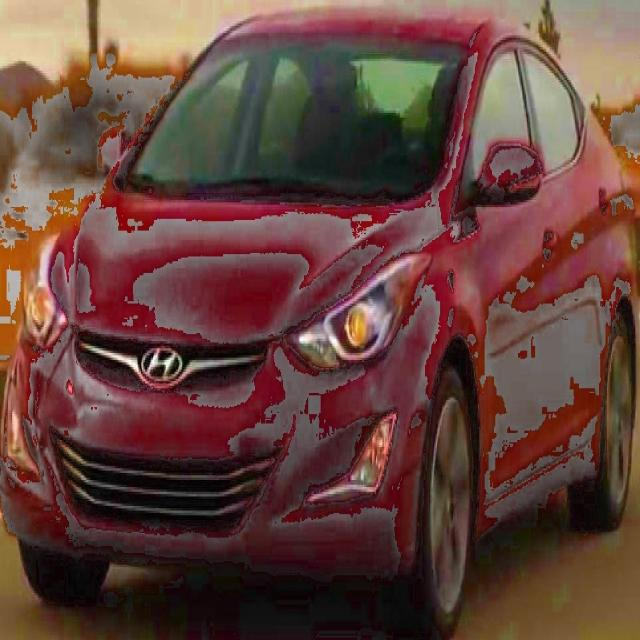maroon: (8, 16, 640, 558)
